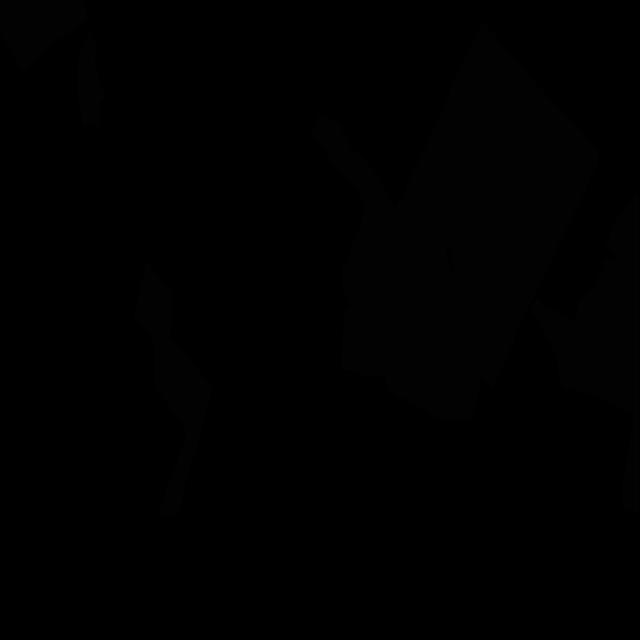cardboard: (387, 21, 599, 390), (530, 191, 639, 515), (341, 236, 484, 420), (312, 115, 416, 314), (133, 259, 212, 518), (0, 0, 89, 72), (77, 31, 104, 132)
